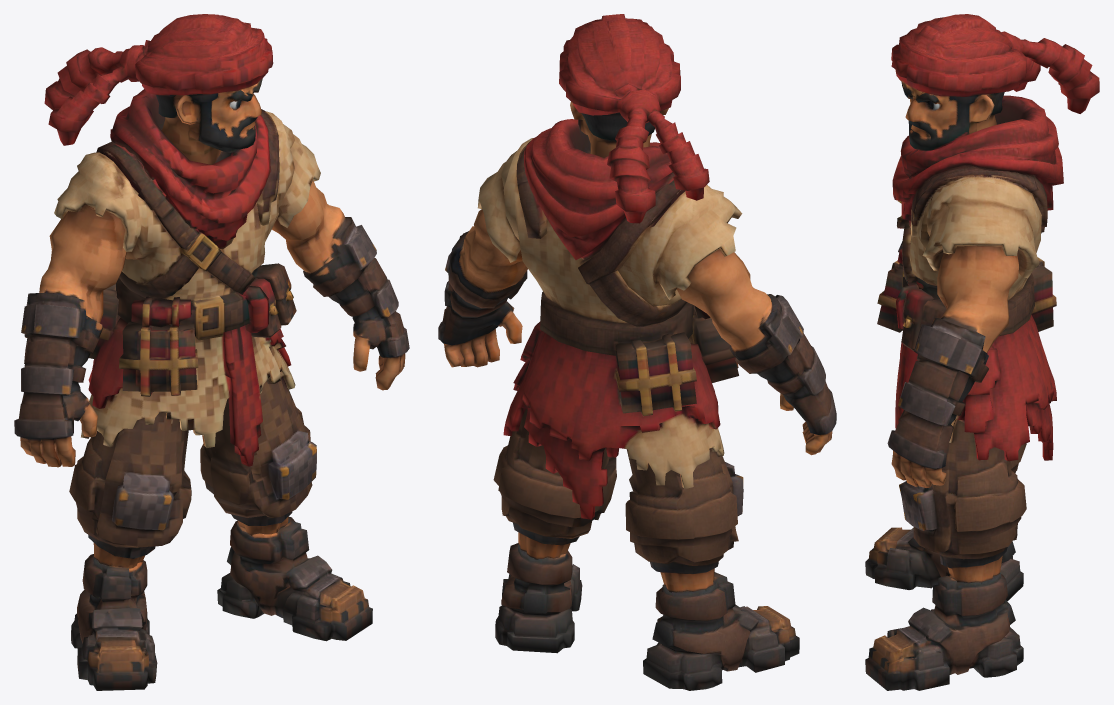
File: voxel+adventurer+3d+model.glb
3 views of the same model, side by side, from view 1: azimuth 30°, elevation 25°; view 2: azimuth 150°, elevation 25°; view 3: azimuth 270°, elevation 25° (orthographic).
Visible parts, largest first — view 1: tripo_node_8ce39e42-11d1-4000-89ca-cc61204b5f43; view 2: tripo_node_8ce39e42-11d1-4000-89ca-cc61204b5f43; view 3: tripo_node_8ce39e42-11d1-4000-89ca-cc61204b5f43.
Part boxes in pixels (x1,y1,x2,y2): tripo_node_8ce39e42-11d1-4000-89ca-cc61204b5f43: (14,14,409,690); tripo_node_8ce39e42-11d1-4000-89ca-cc61204b5f43: (438,14,836,690); tripo_node_8ce39e42-11d1-4000-89ca-cc61204b5f43: (865,14,1099,690).
Size of the model in its own units: 0.6597 by 0.9995 by 0.3481.
1 material, 1 textured.
